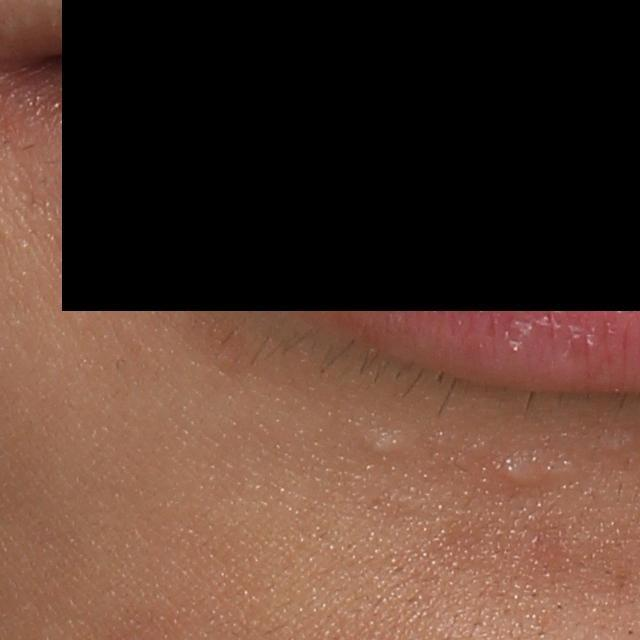hypertrophic_scar: (493, 452, 542, 494), (356, 423, 416, 456)
